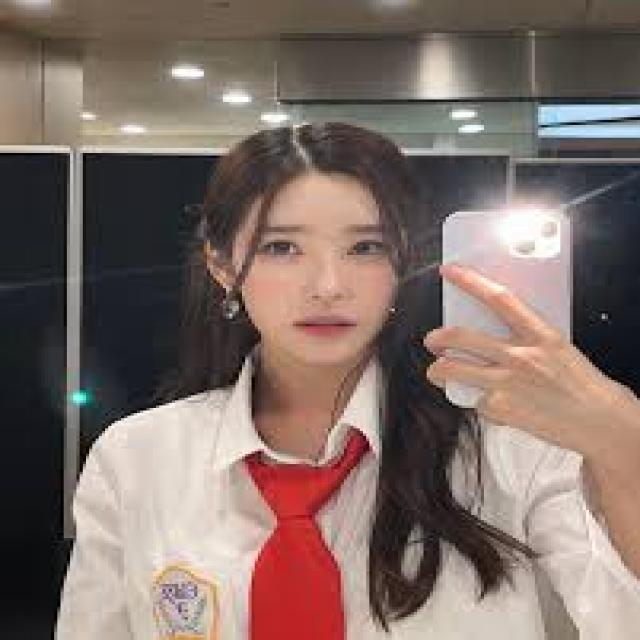phone: (440, 203, 577, 406)
